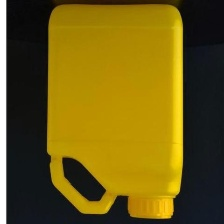insecticide: (45, 0, 186, 221)
